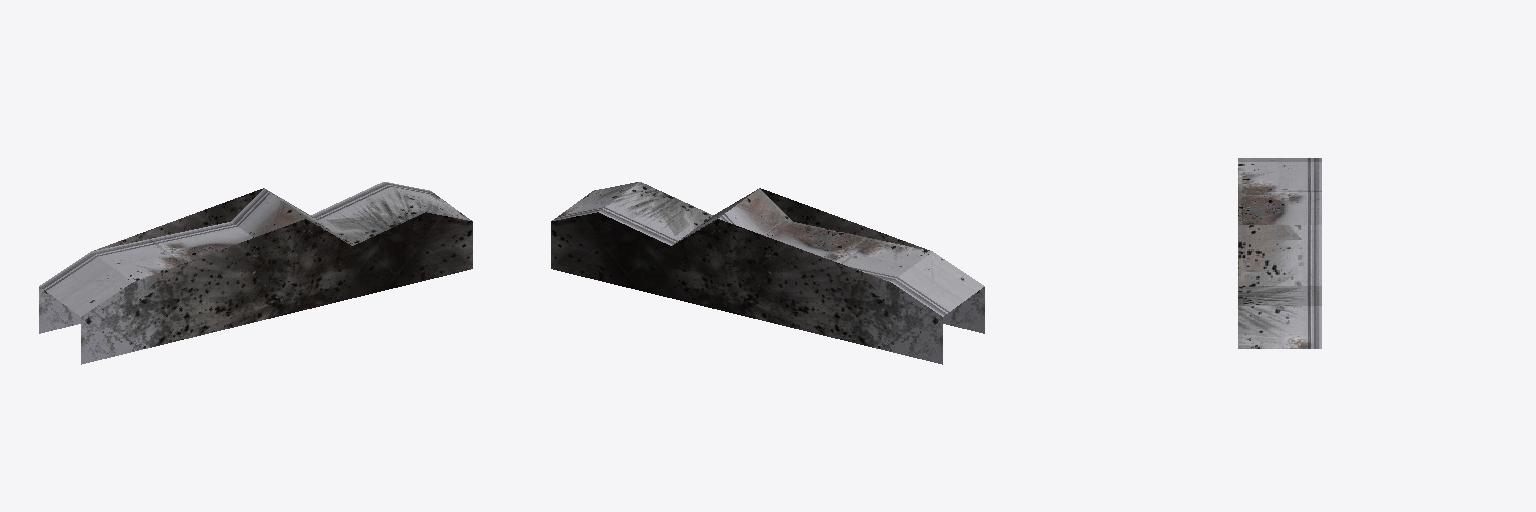
3 views of the same model, side by side, from view 1: azimuth 30°, elevation 25°; view 2: azimuth 150°, elevation 25°; view 3: azimuth 270°, elevation 25° (orthographic).
Visible parts, largest first — view 1: polySurface138 polySurface175 polySurface177 polySurface178 poly; view 2: polySurface138 polySurface175 polySurface177 polySurface178 poly; view 3: polySurface138 polySurface175 polySurface177 polySurface178 poly.
Part boxes in pixels (left/top/right/bottom): polySurface138 polySurface175 polySurface177 polySurface178 poly: left=39, top=182, right=472, bottom=364; polySurface138 polySurface175 polySurface177 polySurface178 poly: left=551, top=182, right=984, bottom=364; polySurface138 polySurface175 polySurface177 polySurface178 poly: left=1238, top=158, right=1321, bottom=348.
Size of the model in its own units: 0.9935 by 0.2207 by 0.1845.
1 materials, 1 textured.